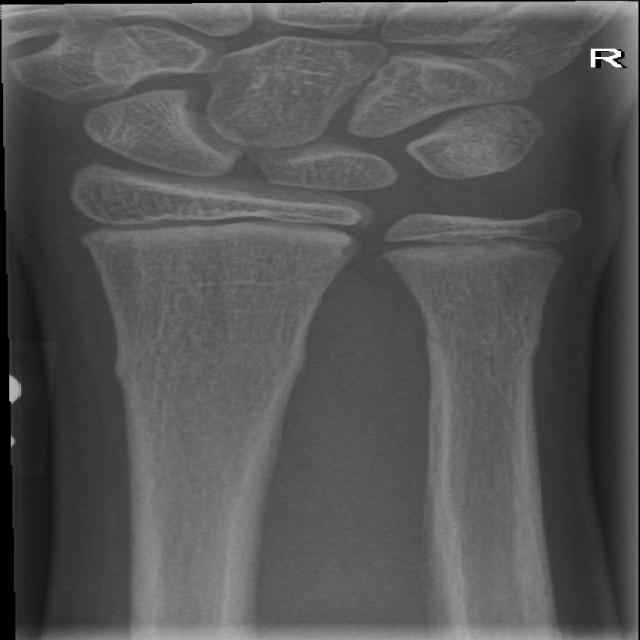radius fracture: (82, 289, 352, 465)
